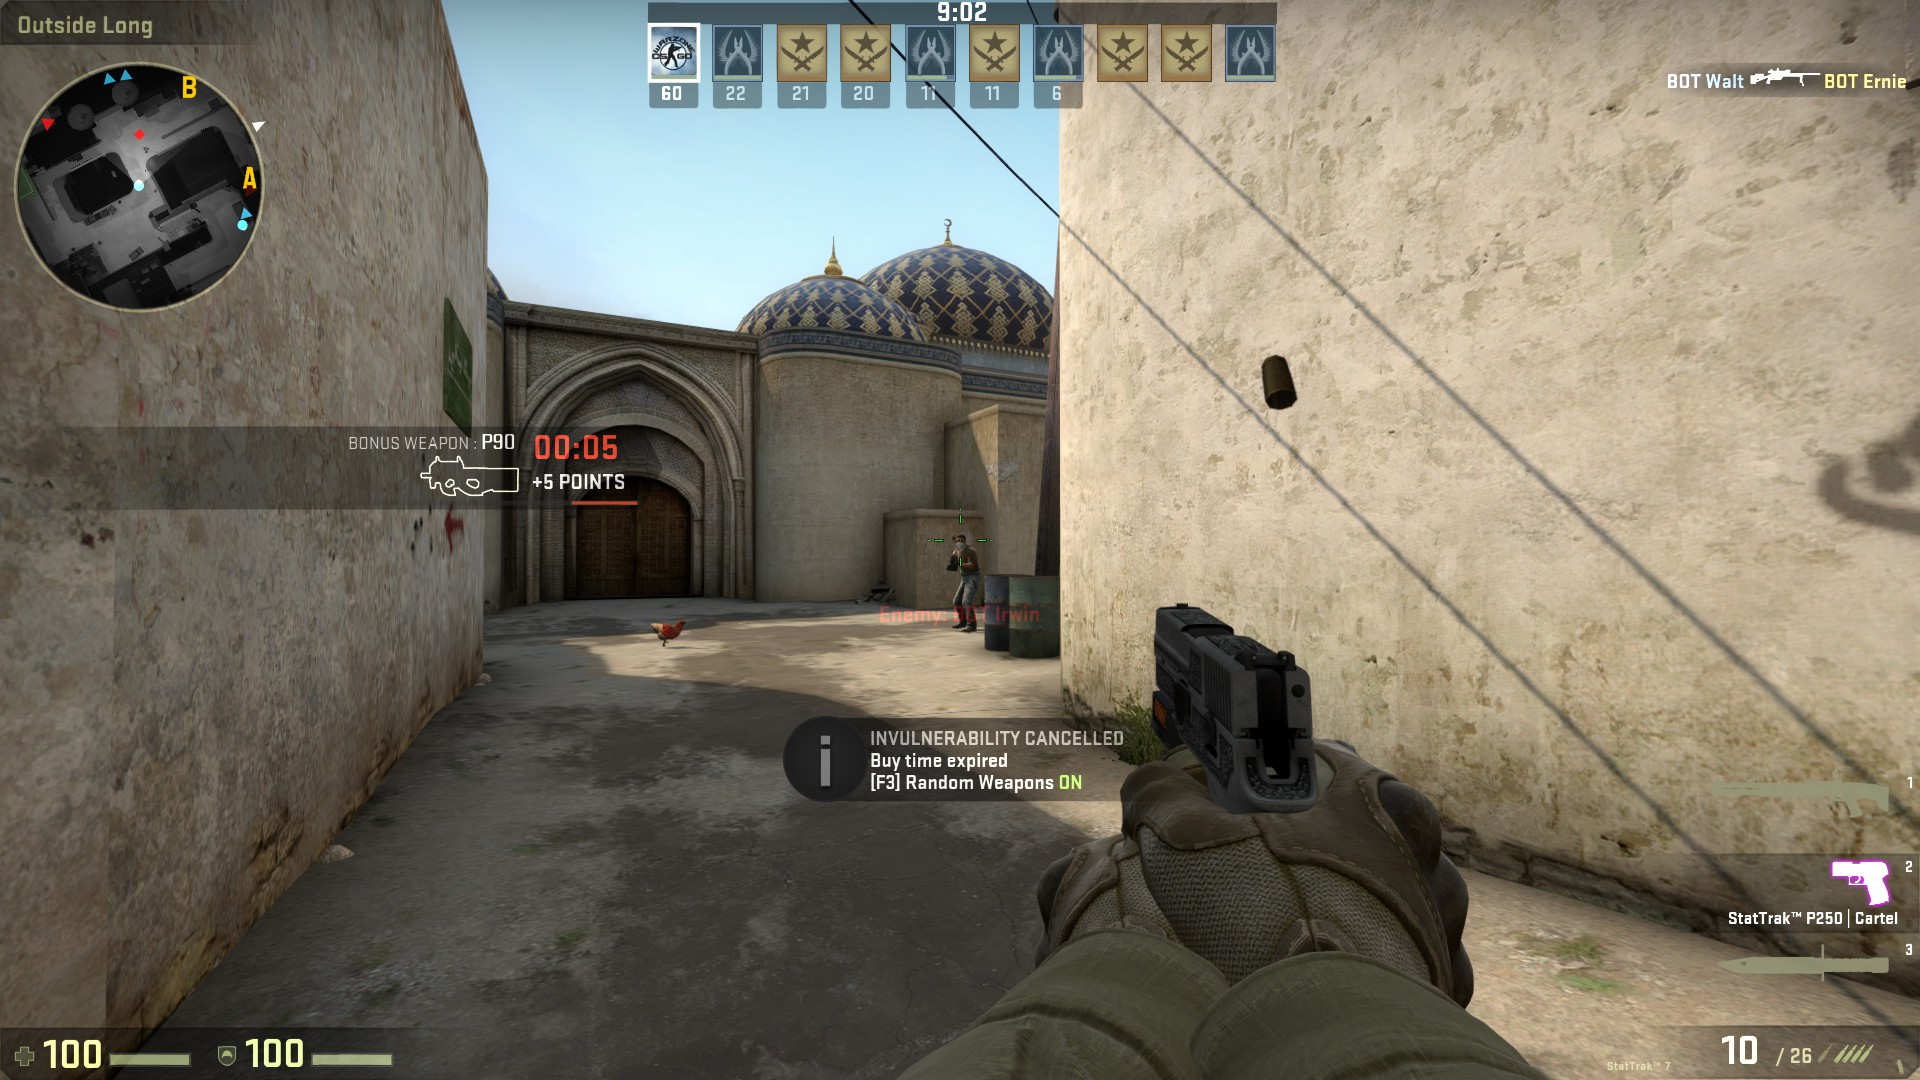t: (947, 535, 980, 634)
th: (953, 535, 969, 553)
